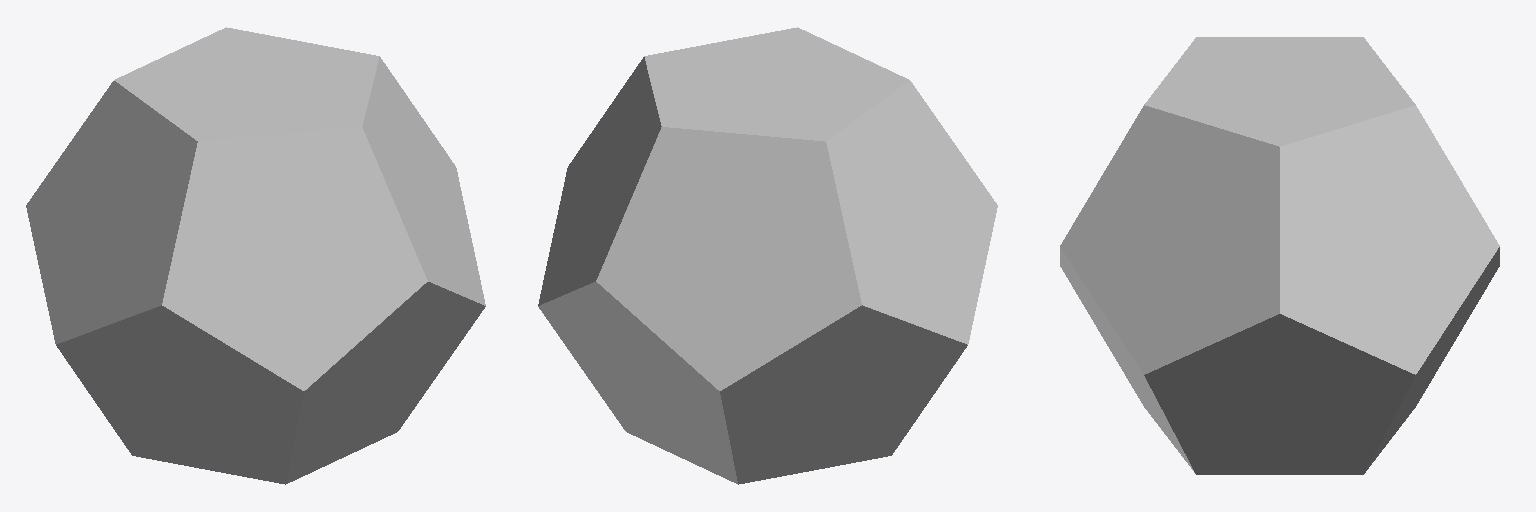
The model's file is dodecahedron.obj.
3 views of the same model, side by side, from view 1: azimuth 30°, elevation 25°; view 2: azimuth 150°, elevation 25°; view 3: azimuth 270°, elevation 25° (orthographic).
Parts seen in each view (by area): view 1: Solid; view 2: Solid; view 3: Solid.
Boxes of the visible parts, box(x1,y1,x2,y2) form: Solid: box(26, 27, 485, 484); Solid: box(538, 27, 997, 484); Solid: box(1060, 37, 1499, 474).
Bounding box in the file's own units: 1.96 × 1.59 × 1.87.